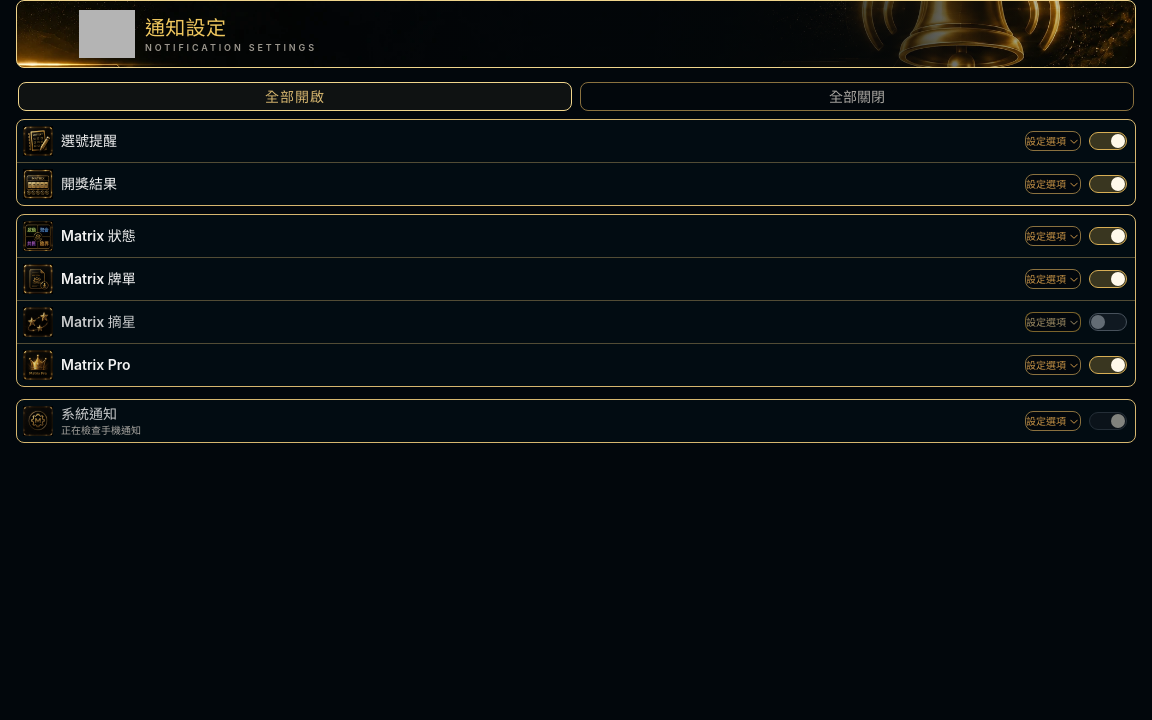
Test case: NotificationsPagePatched › 選號提醒展開後不顯示彩種勾選框，只保留四彩種標題與兩列時間選擇
Expected: the element showing "選號提醒 設定選項" is shown, [17,120,1135,162]
Click the button "設定選項" in the row of "選號提醒".
click(1053, 141)  # box [1025,125,1081,157]
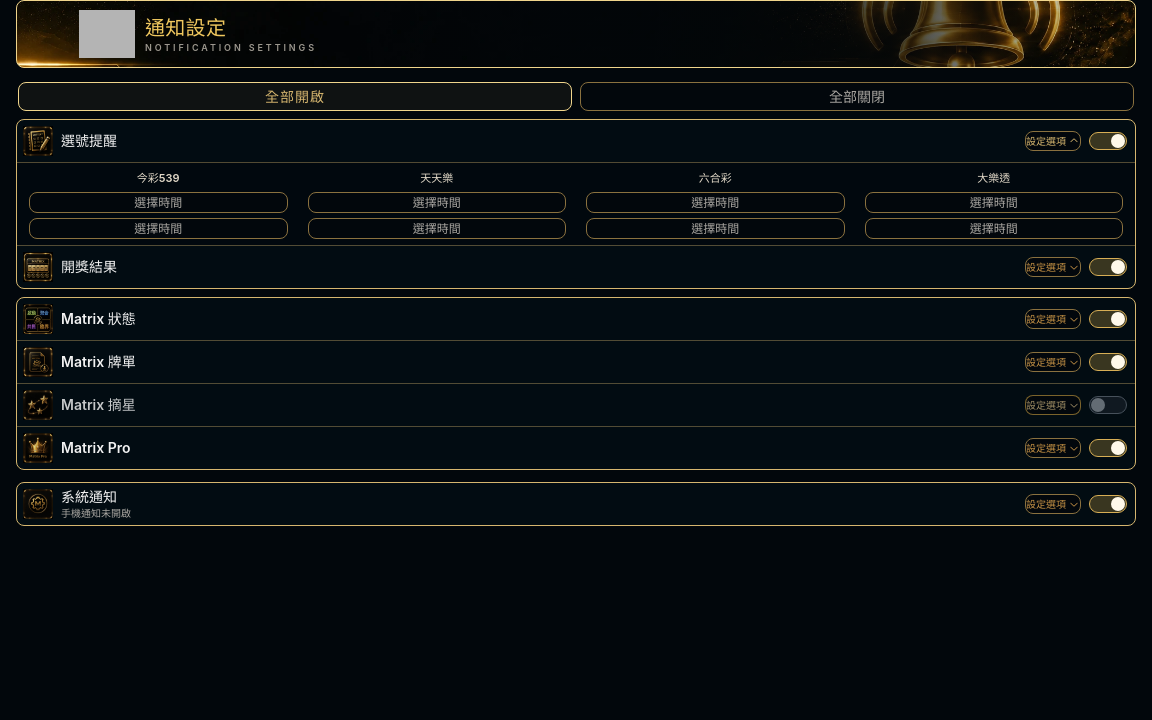
Now the element named "第1組提醒時間" is shown, box [21,192,1131,213]
Now the element named "第2組提醒時間" is shown, box [21,218,1131,239]
Now the text "今彩539" is shown, box [137,170,180,184]
